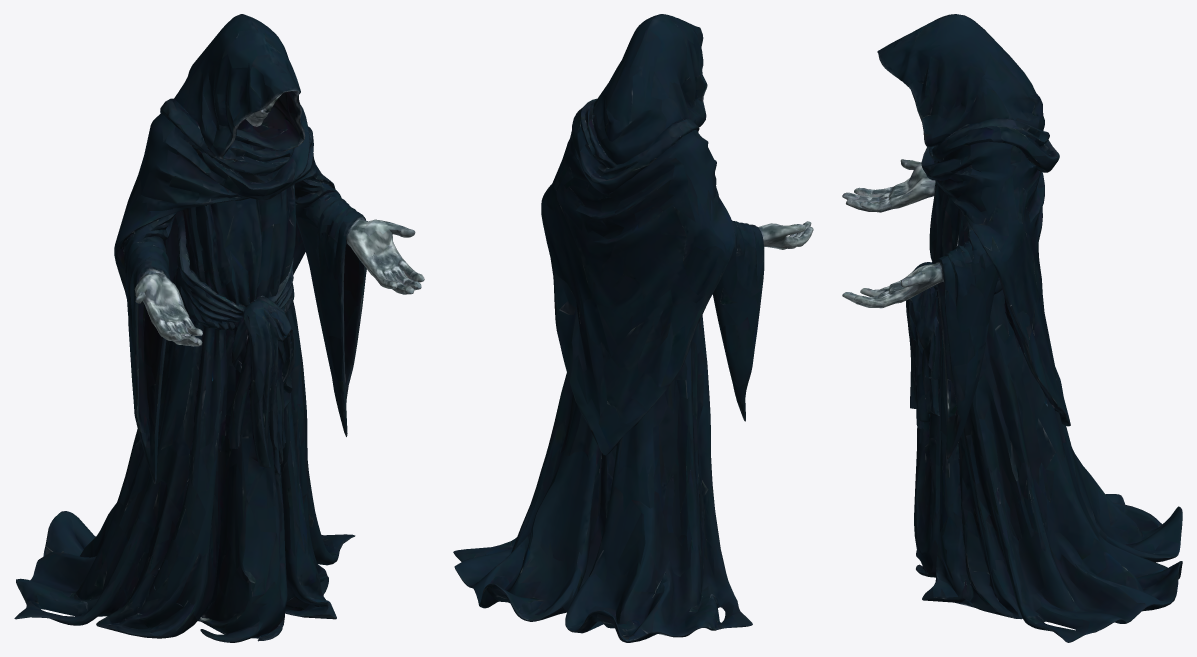
File: river-shade.glb
The picture shows the model from 3 angles, left to right: view 1: azimuth 30°, elevation 25°; view 2: azimuth 150°, elevation 25°; view 3: azimuth 270°, elevation 25°; orthographic projection. The views are drawn at different scales.
Visible parts, largest first — view 1: output_unwrapped; view 2: output_unwrapped; view 3: output_unwrapped.
Boxes of the visible parts, x1,y1,x2,y2 form: output_unwrapped: (14,14,424,642); output_unwrapped: (453,14,813,642); output_unwrapped: (842,14,1182,642).
Size of the model in its own units: 1.11 by 1.9 by 1.06.
Materials: 1 (1 with a texture image).
